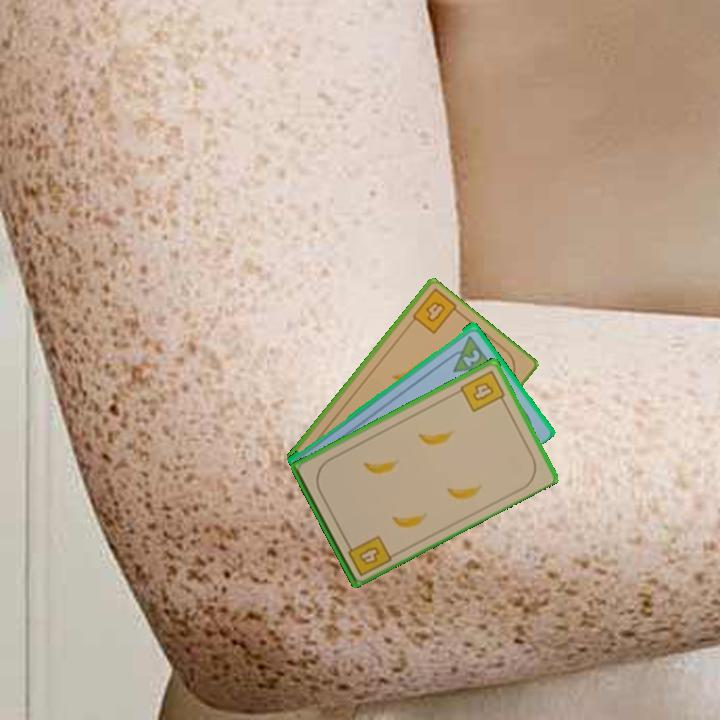2p: (459, 345, 483, 369)
4b: (456, 366, 509, 415), (342, 531, 394, 579), (422, 297, 448, 325)
